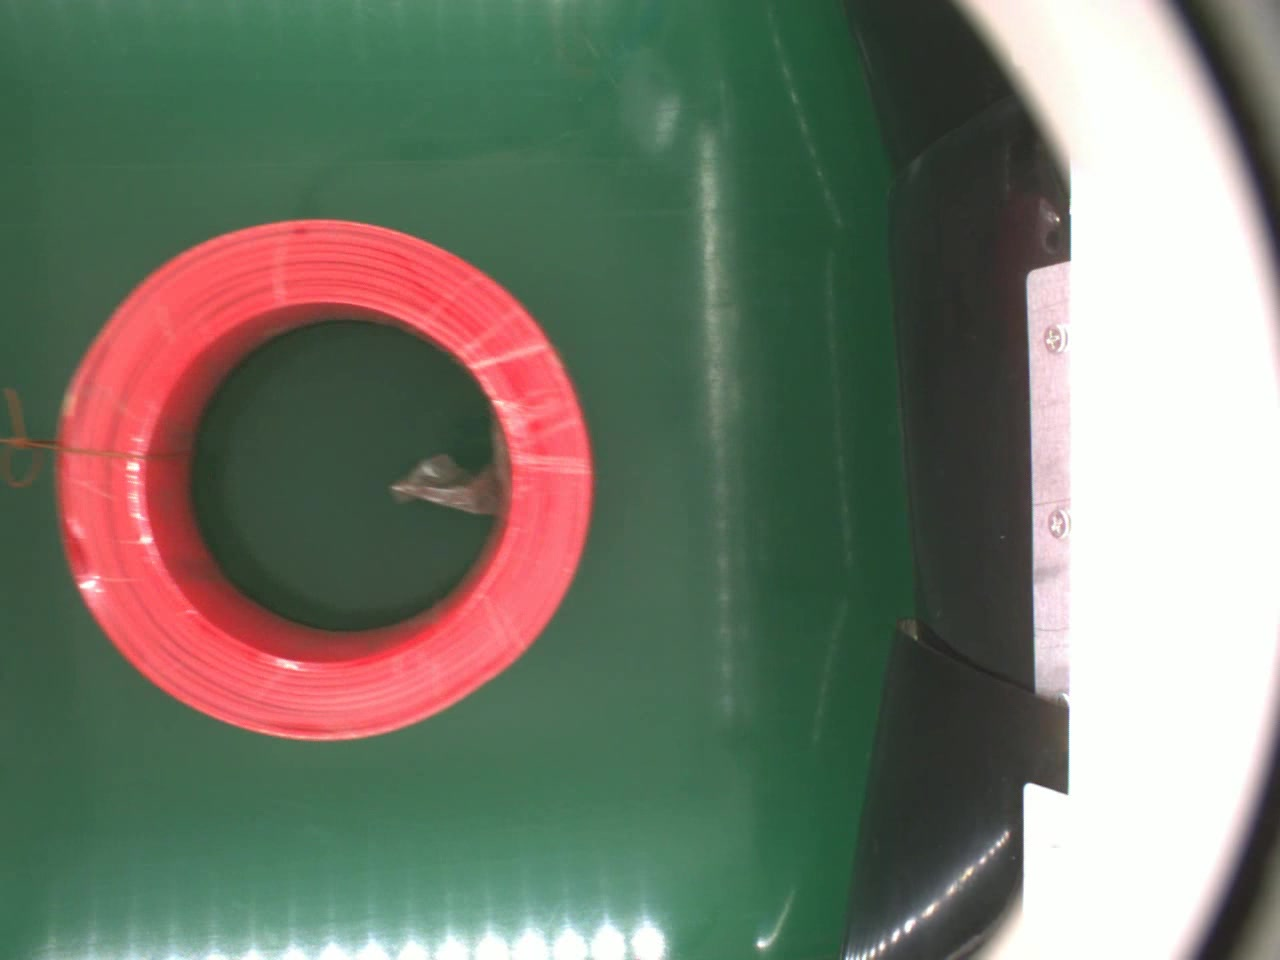red: (46, 218, 593, 744)
